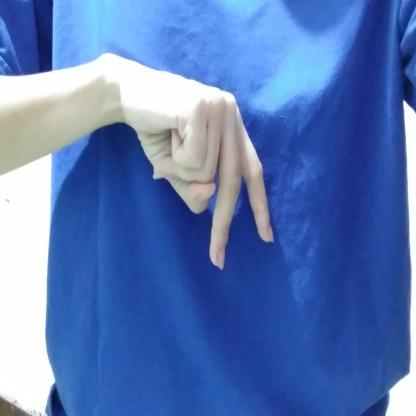run: (103, 51, 286, 273)
